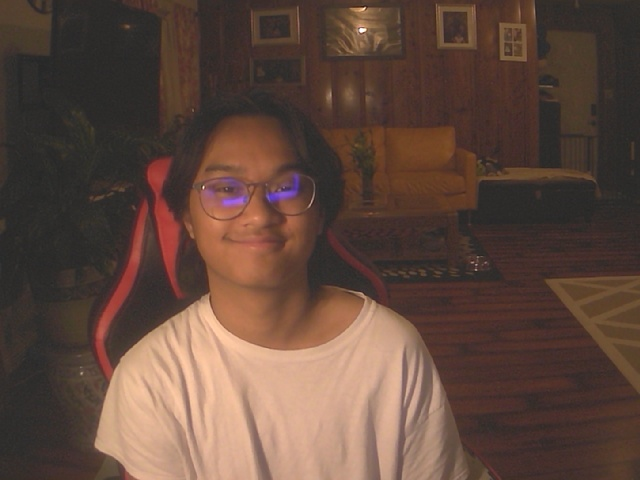happy: (161, 89, 346, 286)
